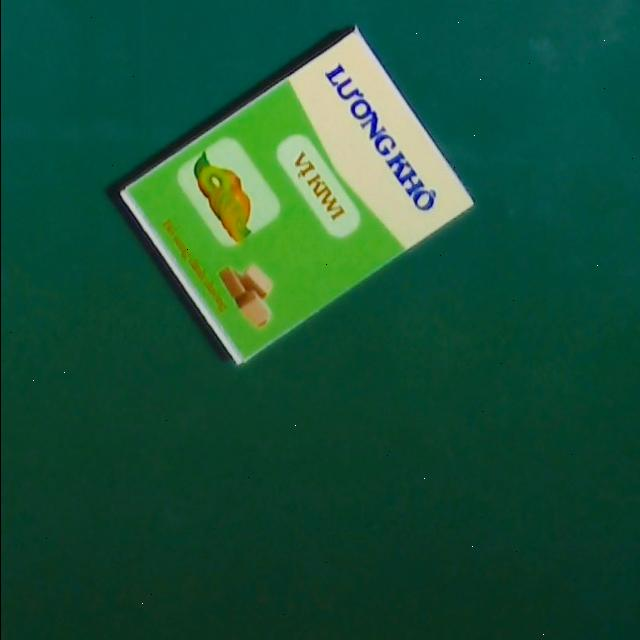kiwi: (113, 25, 474, 366)
